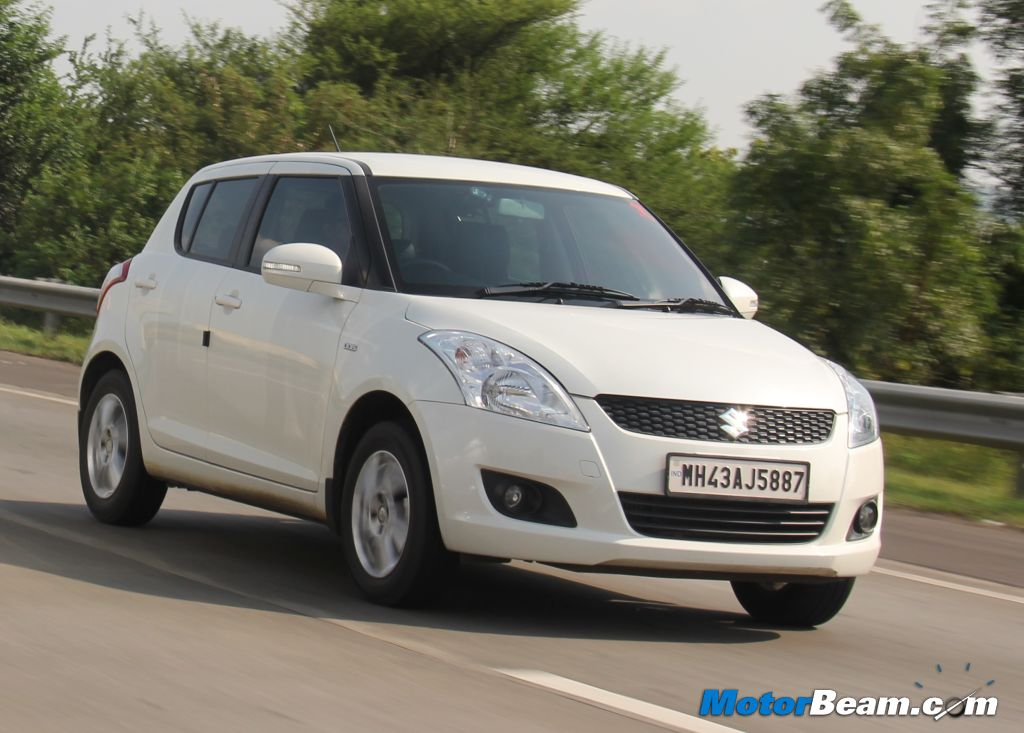car: (57, 137, 943, 651)
numberplate: (660, 446, 822, 509)
